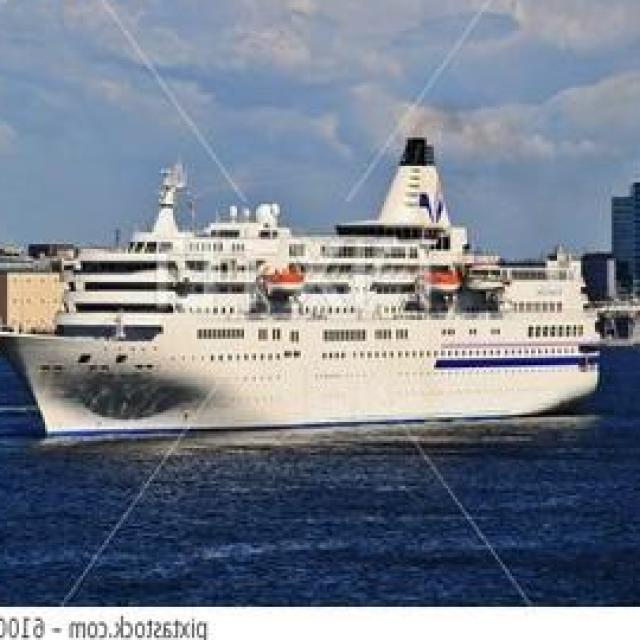passenger ship: (11, 154, 602, 443)
